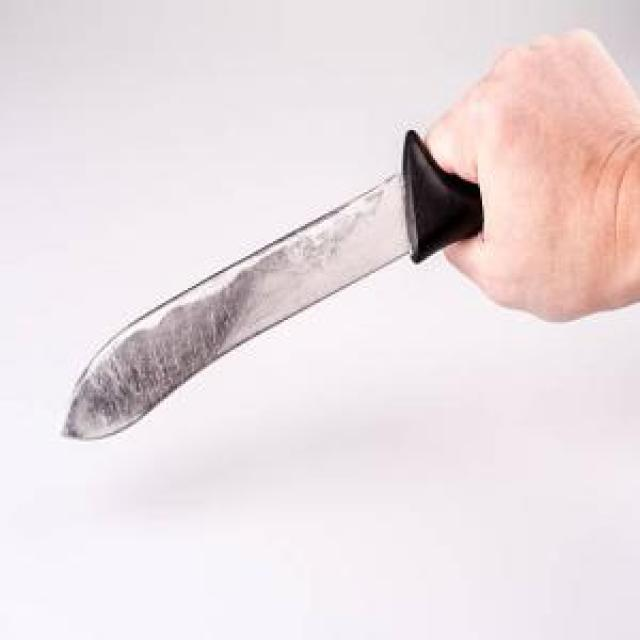knife: (60, 124, 512, 442)
